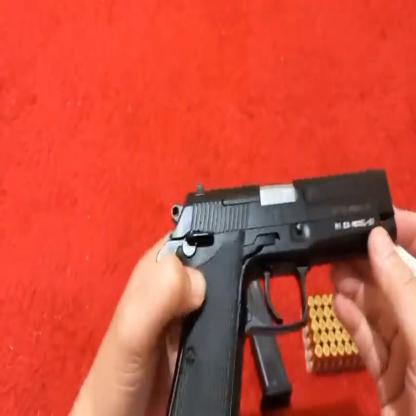handgun: (146, 170, 402, 416)
